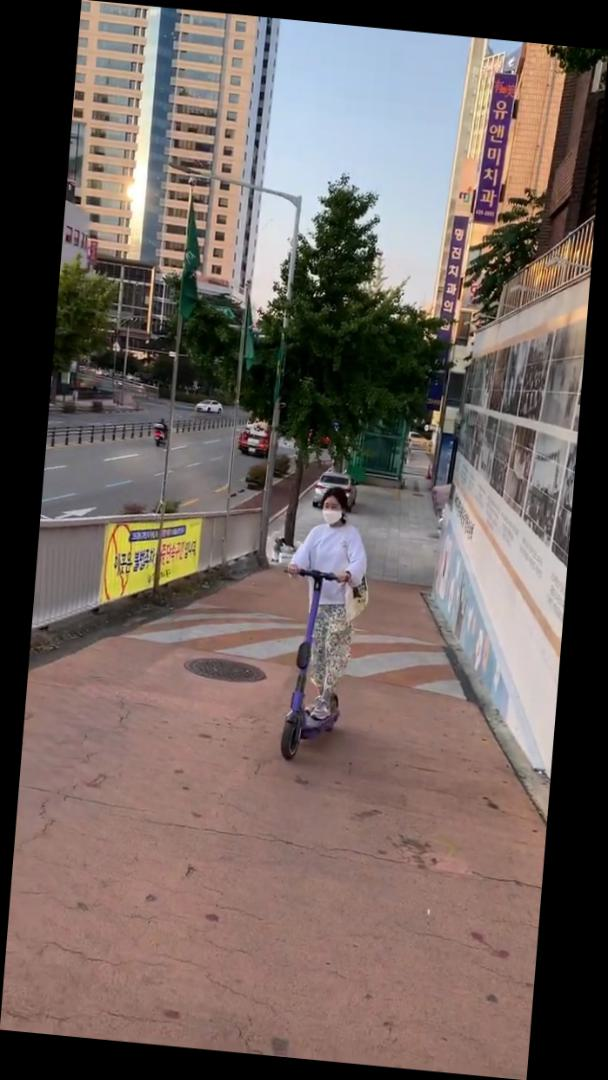nonhelmet: (267, 480, 382, 771)
